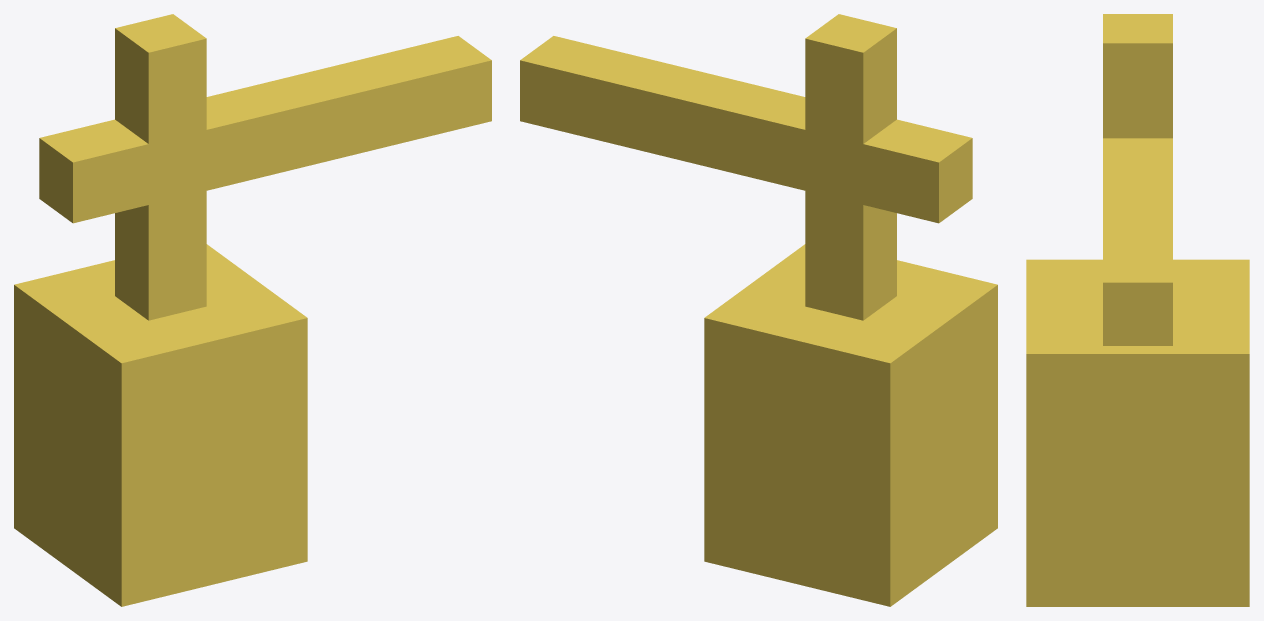
The model's file is harbor_crane.glb.
3 views of the same model, side by side, from view 1: azimuth 30°, elevation 25°; view 2: azimuth 150°, elevation 25°; view 3: azimuth 270°, elevation 25° (orthographic). The views are drawn at different scales.
Visible parts, largest first — view 1: crane_base, crane_arm, crane_mast; view 2: crane_base, crane_arm, crane_mast; view 3: crane_base, crane_arm, crane_mast.
Part boxes in pixels (bbox=[...]): crane_base: bbox=[14, 244, 307, 606]; crane_arm: bbox=[39, 36, 491, 223]; crane_mast: bbox=[115, 14, 206, 320]; crane_base: bbox=[704, 244, 997, 606]; crane_arm: bbox=[520, 36, 972, 223]; crane_mast: bbox=[805, 14, 896, 320]; crane_base: bbox=[1026, 259, 1249, 606]; crane_arm: bbox=[1103, 138, 1172, 345]; crane_mast: bbox=[1103, 14, 1172, 138].
Size of the model in its own units: 3.6 by 4.2 by 1.6.
